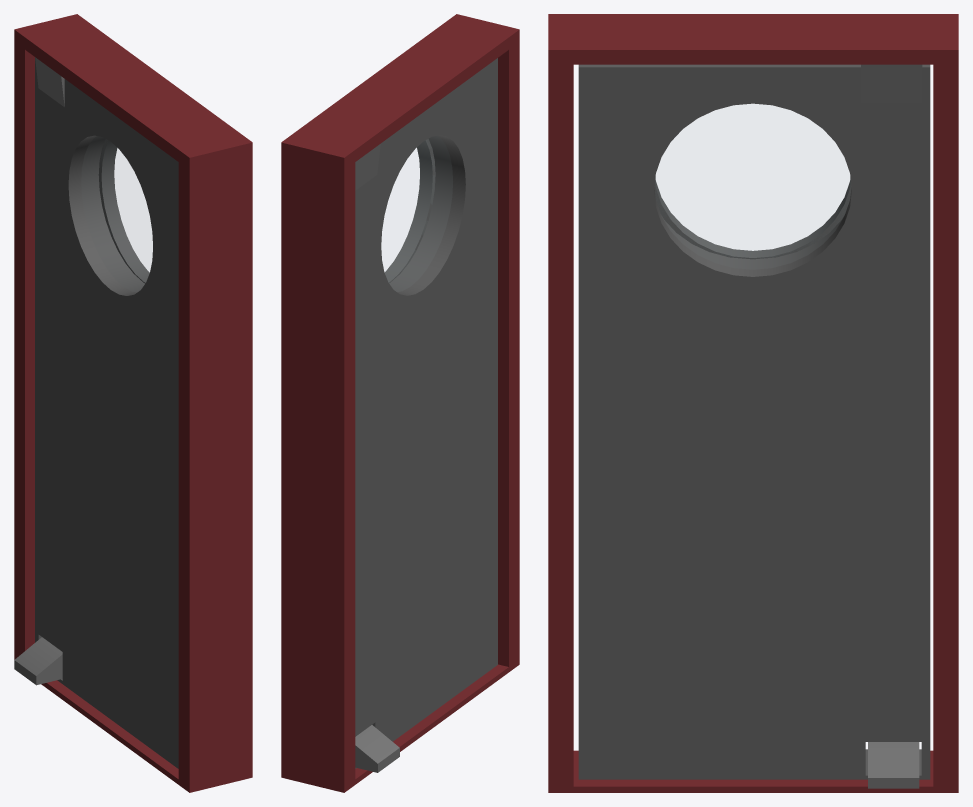
The model's file is Restoran kapı.fbx.
3 renders of one model, left to right at view 1: azimuth 30°, elevation 25°; view 2: azimuth 150°, elevation 25°; view 3: azimuth 270°, elevation 25°, orthographic. The views are drawn at different scales.
Visible parts, largest first — view 1: Cube.002, Cube; view 2: Cube.002, Cube; view 3: Cube.002, Cube.
Boxes of the visible parts, x1,y1,x2,y2 form: Cube.002: (14,57,178,768); Cube: (14,14,252,792); Cube.002: (355,58,497,772); Cube: (281,14,519,792); Cube.002: (578,64,930,788); Cube: (548,14,958,792).
Bounding box in the file's own units: 31.81 × 200 × 100.
